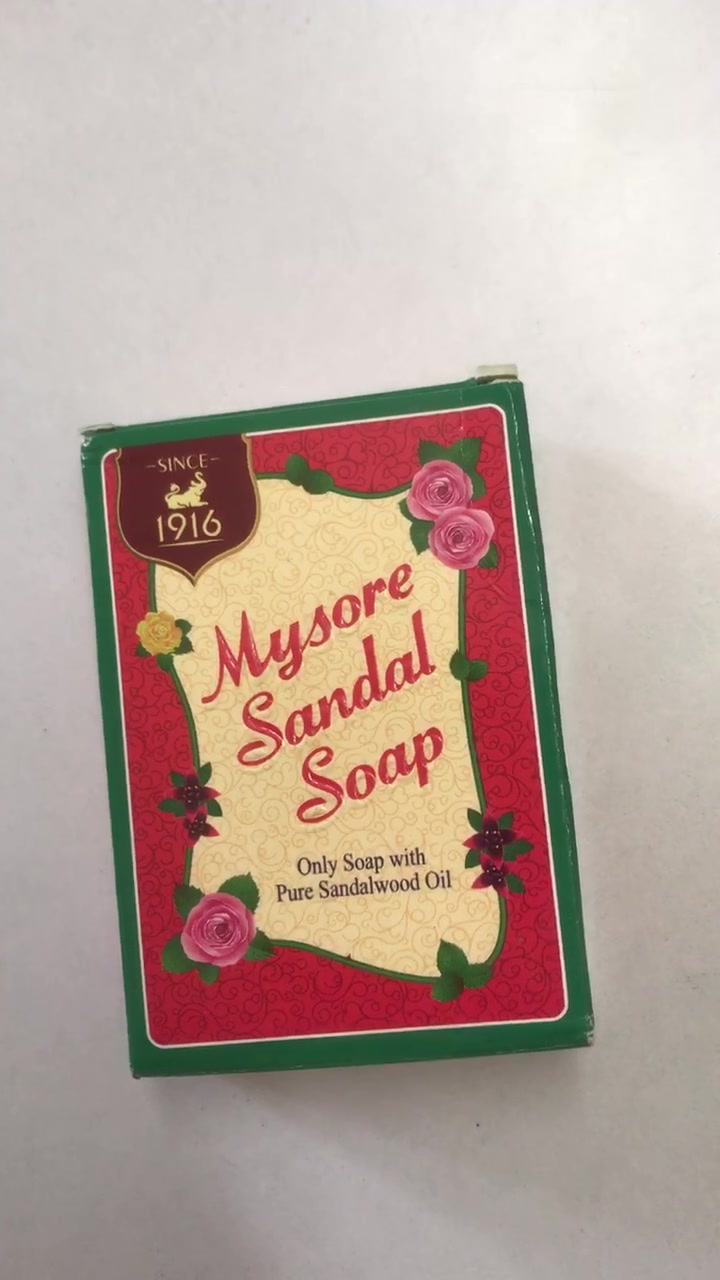mysore sandal soap: (85, 370, 581, 1080)
